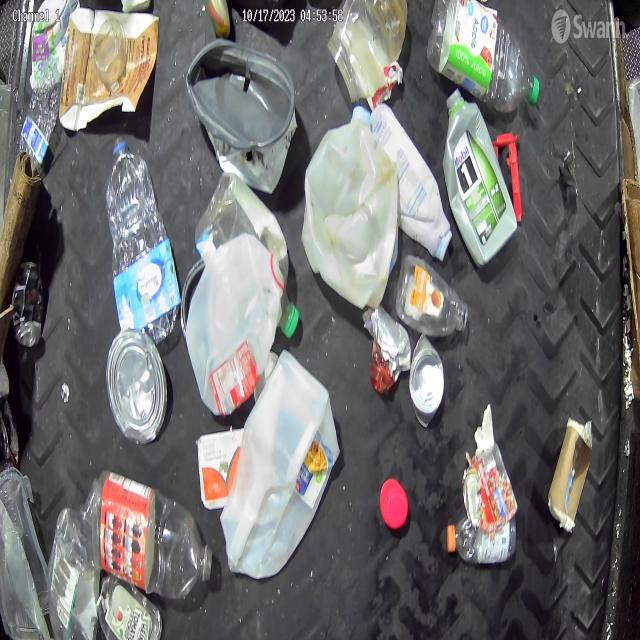can: (106, 327, 168, 445), (463, 440, 519, 532), (407, 333, 444, 428), (11, 259, 45, 348), (121, 0, 152, 12)
milk_jug: (223, 350, 340, 580), (304, 104, 401, 310), (185, 233, 285, 417)
non_white_jug: (443, 89, 516, 264)
plastic_bottle: (90, 469, 213, 598), (106, 134, 181, 338), (428, 0, 542, 110), (396, 252, 472, 342), (48, 501, 98, 633), (446, 516, 518, 568)
